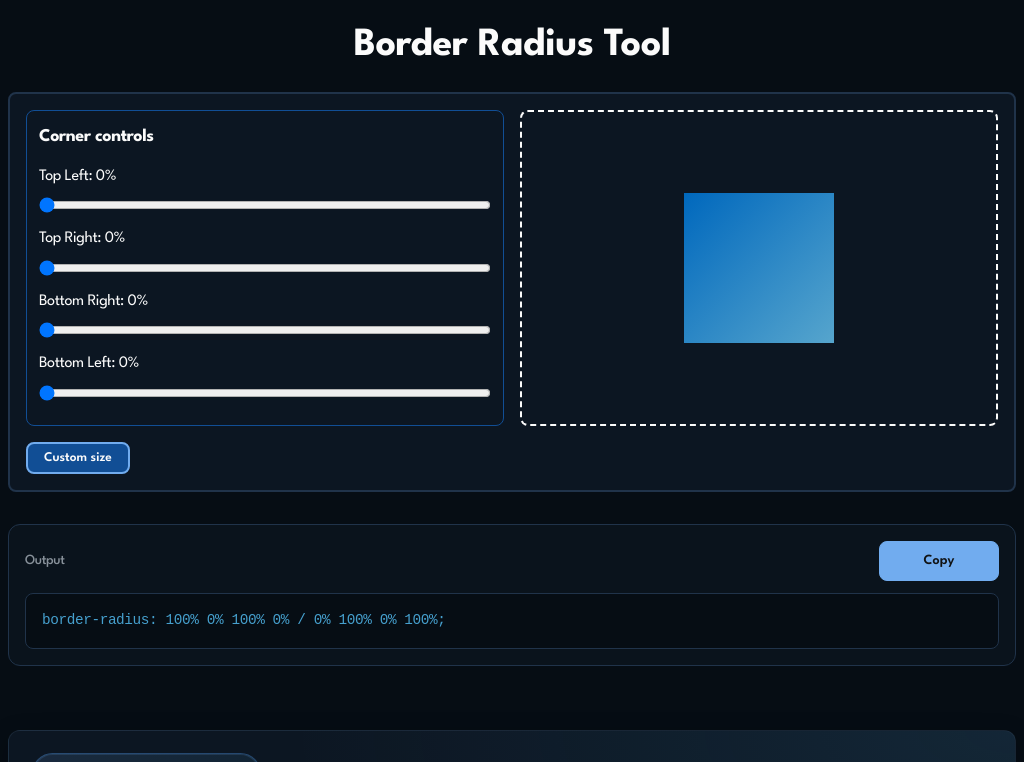
Tool migrations › BorderRadius › updates generated CSS output when a corner slider changes
Set the slider labelled "Top Left: 0%" to "40" at [221, 205], box top-left (39, 197), bottom-right (491, 213)
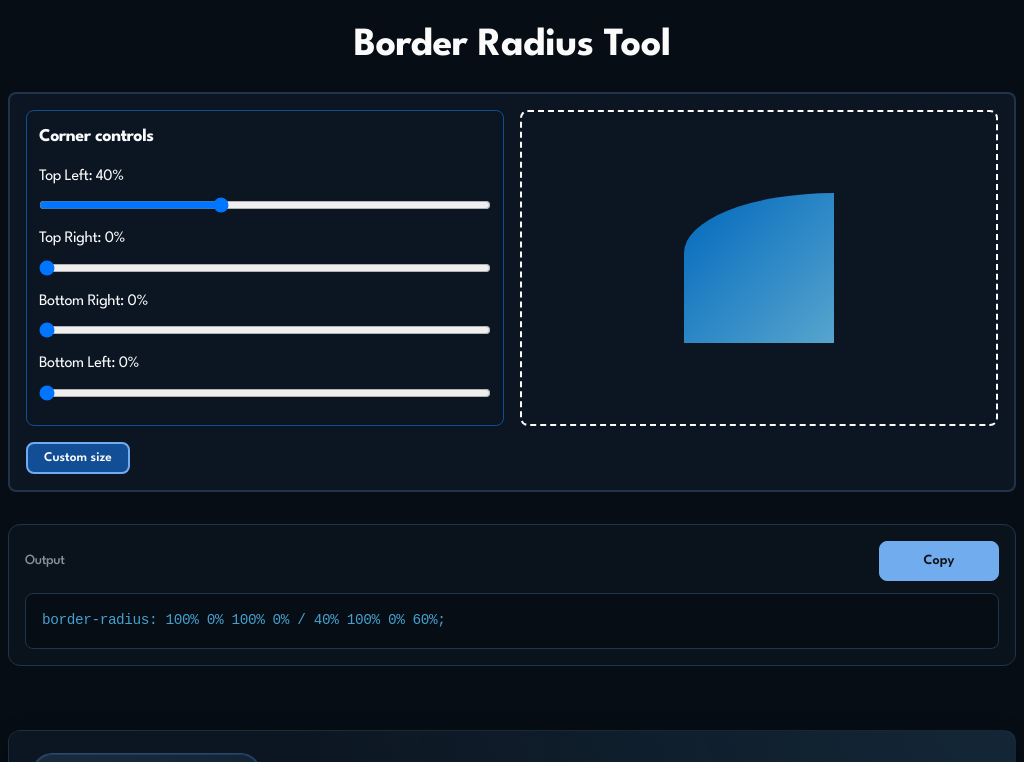
Result: the text "border-radius: 100% 0% 100% 0% / 40% 100% 0% 60%;" is shown at top-left (42, 612), bottom-right (446, 628)
